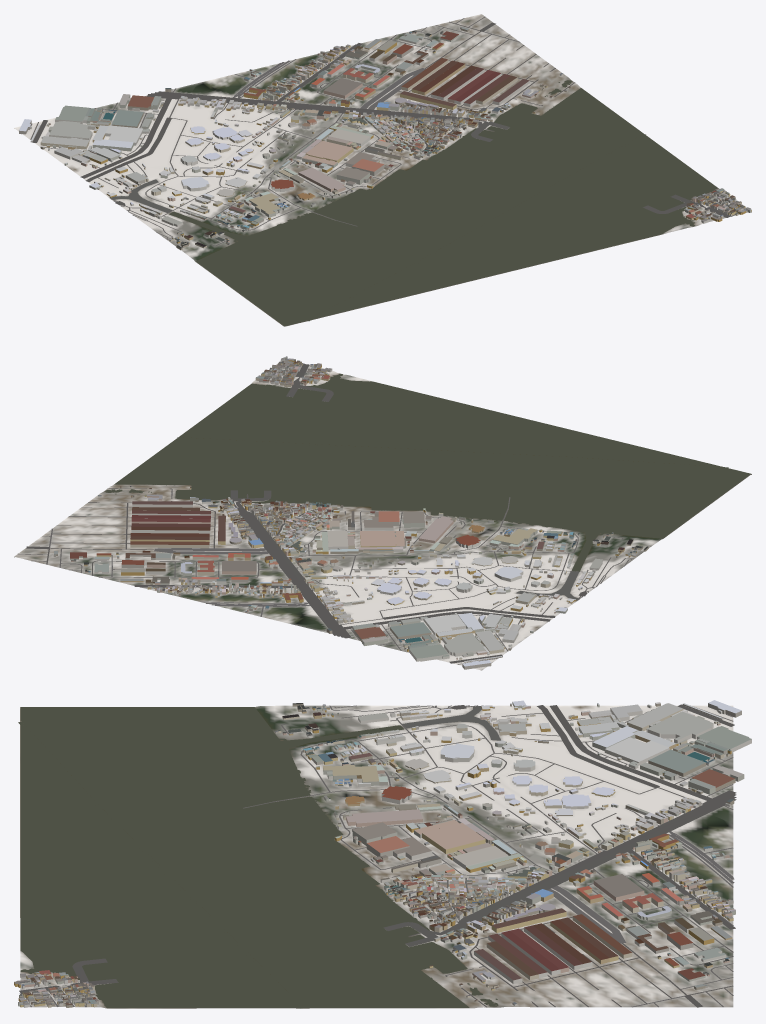
The picture shows the model from 3 angles, top to bottom: view 1: azimuth 30°, elevation 25°; view 2: azimuth 150°, elevation 25°; view 3: azimuth 270°, elevation 25°; orthographic projection. The views are drawn at different scales.
Visible parts, largest first — view 1: water, ground, buildings, roads; view 2: water, ground, buildings, roads; view 3: water, ground, buildings, roads.
Boxes of the visible parts, <box> form: water: <box>110,80,718,326</box>; ground: <box>14,14,751,326</box>; buildings: <box>19,27,751,250</box>; roads: <box>30,16,735,245</box>; water: <box>105,373,750,600</box>; ground: <box>14,363,751,670</box>; buildings: <box>53,356,648,669</box>; roads: <box>18,361,634,664</box>; water: <box>18,706,500,1008</box>; ground: <box>20,705,733,1008</box>; buildings: <box>14,700,751,1007</box>; roads: <box>19,704,736,1007</box>.
Bounding box in the file's own units: 1416 × 20.72 × 1449.
